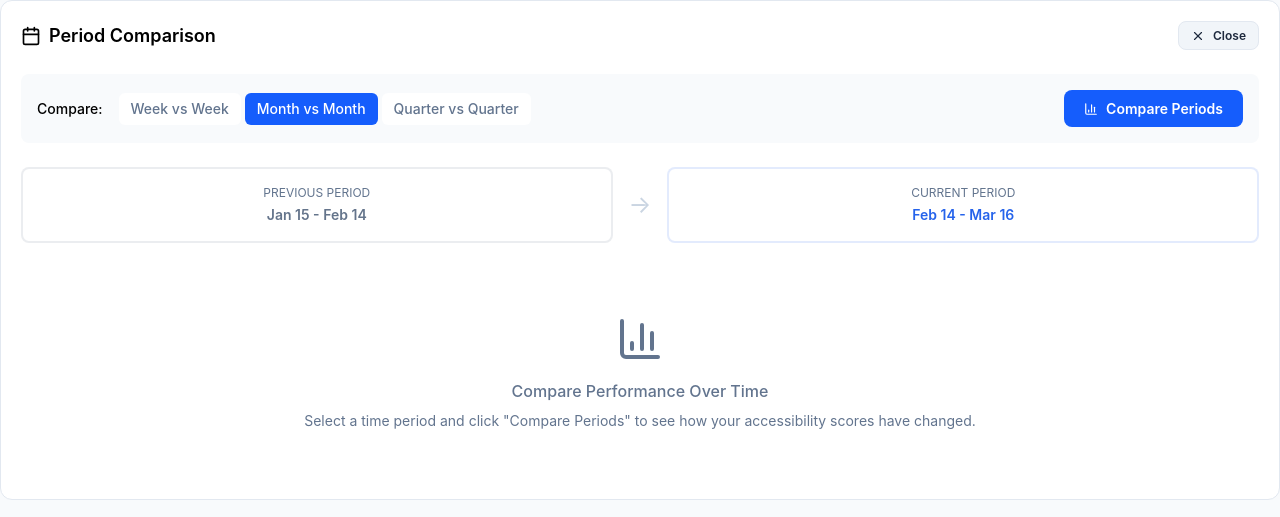
Test: reports/PeriodComparison › falls back to generic error on unknown rejection
The image size is (1280, 517).
Click the button "Compare Periods": (1154, 108) [1064,90,1243,127]
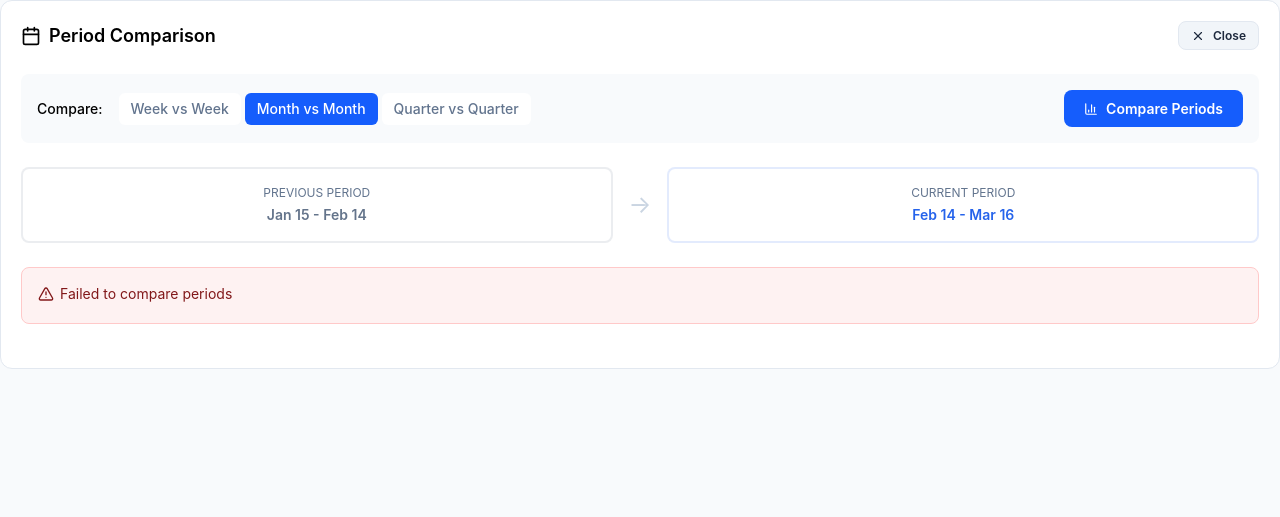
Expected: the text "Failed to compare periods" is shown, [38,284,232,304]
